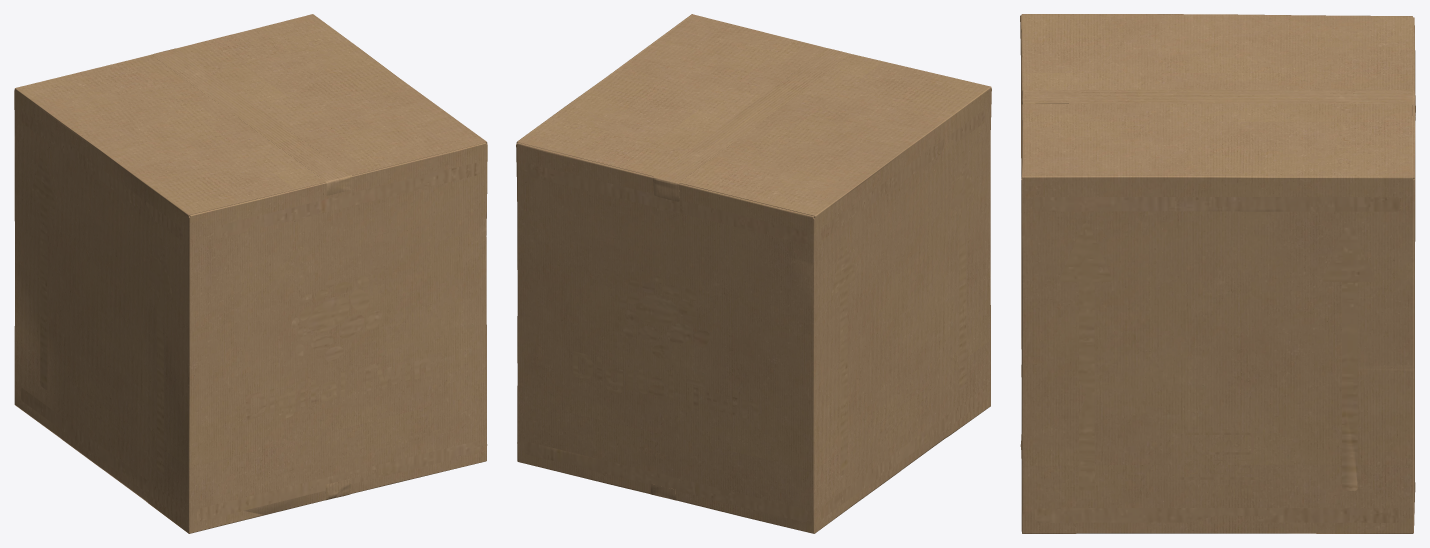
Rendered from box_corrugated_brown_b08.glb.
The picture shows the model from 3 angles, left to right: view 1: azimuth 30°, elevation 25°; view 2: azimuth 150°, elevation 25°; view 3: azimuth 270°, elevation 25°; orthographic projection. The views are drawn at different scales.
Visible parts, largest first — view 1: sm_box_corrugated_b08_mesh_00_0; view 2: sm_box_corrugated_b08_mesh_00_0; view 3: sm_box_corrugated_b08_mesh_00_0.
Boxes of the visible parts, bbox=[...] form: sm_box_corrugated_b08_mesh_00_0: bbox=[14, 14, 487, 533]; sm_box_corrugated_b08_mesh_00_0: bbox=[516, 14, 991, 533]; sm_box_corrugated_b08_mesh_00_0: bbox=[1020, 14, 1415, 533].
Size of the model in its own units: 0.2973 by 0.3037 by 0.3038.
1 material, 1 textured.
